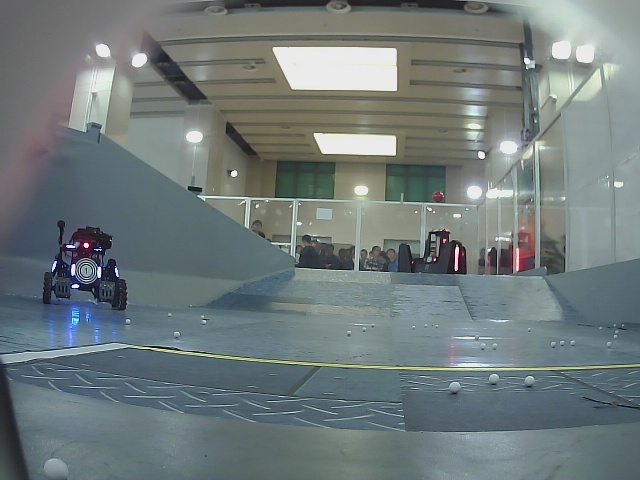lamp: (69, 263, 78, 280), (96, 265, 102, 279)
pair: (70, 263, 102, 279)
